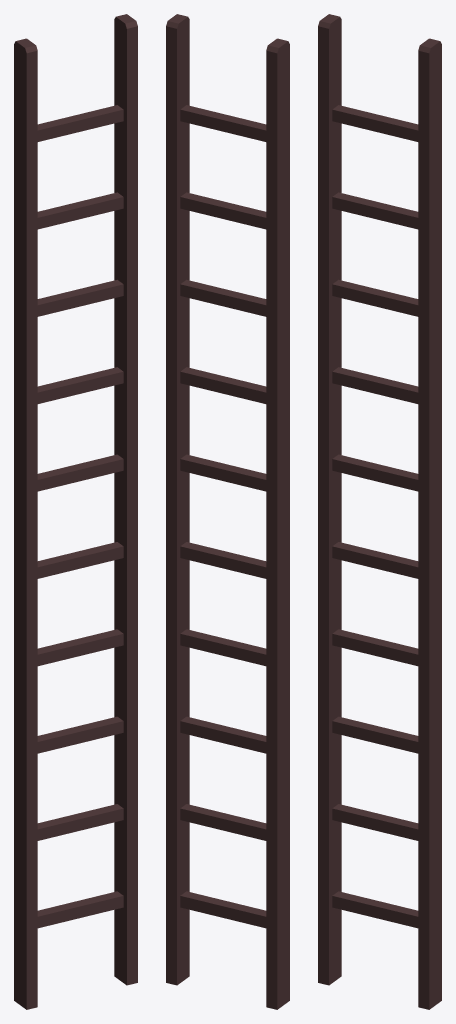
File: SW_PROP_Ladder.fbx
3 views of the same model, side by side, from view 1: azimuth 30°, elevation 25°; view 2: azimuth 150°, elevation 25°; view 3: azimuth 330°, elevation 25° (orthographic).
Parts seen in each view (by area): view 1: SW_PROP_Ladder; view 2: SW_PROP_Ladder; view 3: SW_PROP_Ladder.
Boxes of the visible parts, x1,y1,x2,y2 form: SW_PROP_Ladder: (14,14,137,1009); SW_PROP_Ladder: (166,14,289,1009); SW_PROP_Ladder: (318,14,441,1009).
Bounding box in the file's own units: 40 × 330 × 7.89.
